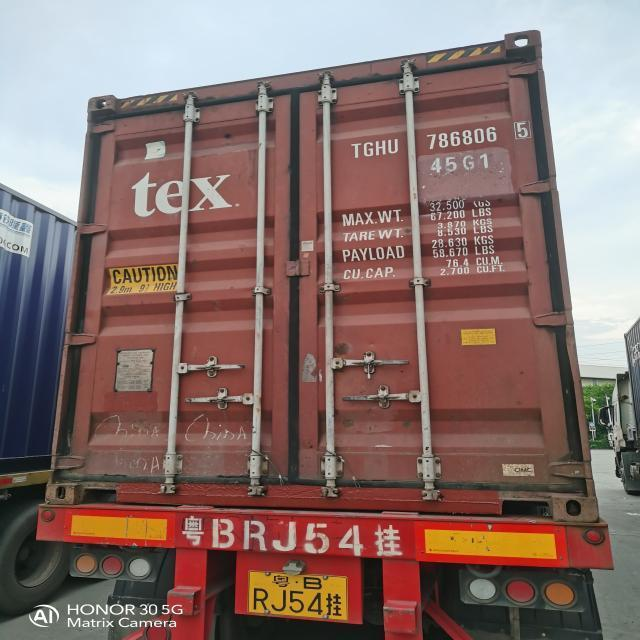ISO: (430, 154, 498, 170)
container_number: (347, 125, 529, 159)
